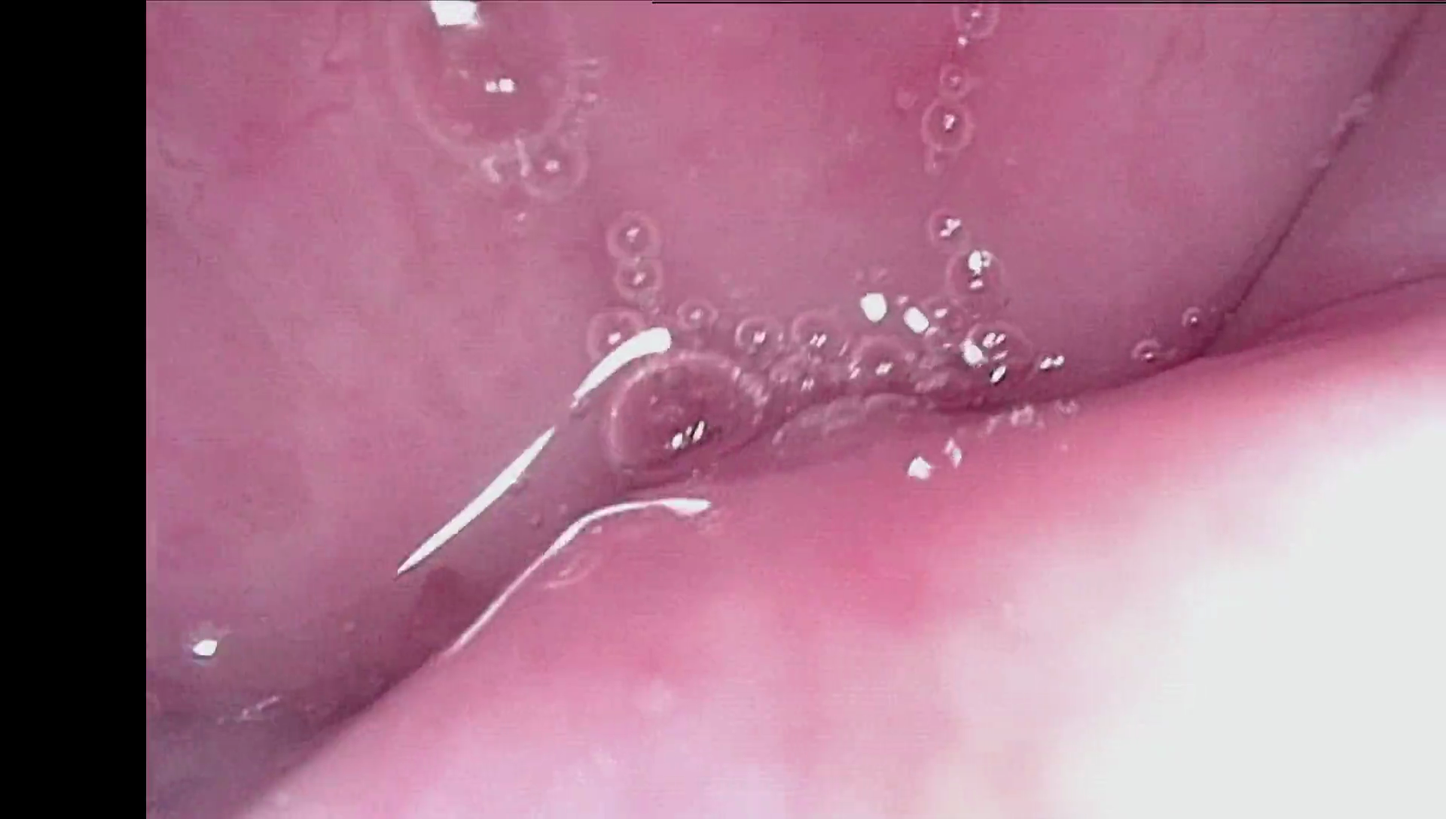close_wall: (791, 327, 1446, 819)
